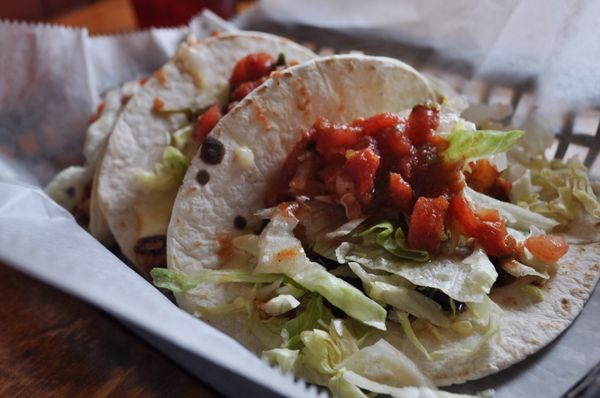soup: (154, 48, 598, 388)
